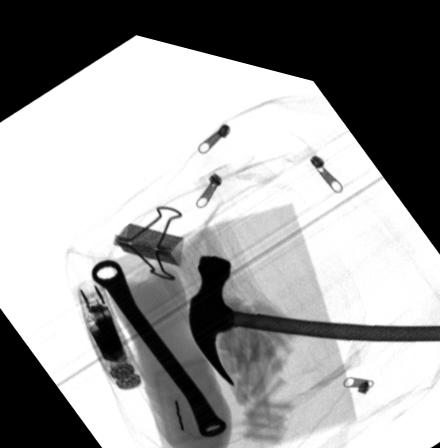Hammer: (187, 243, 440, 375)
Wrench: (91, 253, 225, 427)
